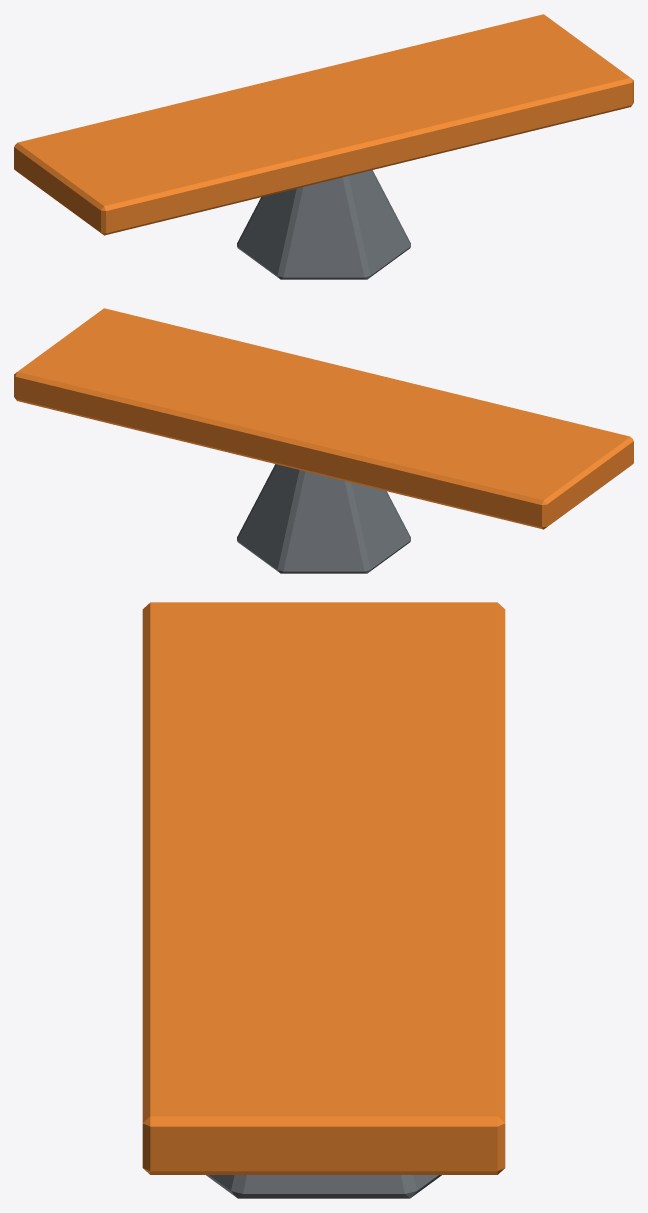
File: seesaw.glb
The picture shows the model from 3 angles, top to bottom: view 1: azimuth 30°, elevation 25°; view 2: azimuth 150°, elevation 25°; view 3: azimuth 270°, elevation 25°; orthographic projection. The views are drawn at different scales.
Visible parts, largest first — view 1: seesaw; view 2: seesaw; view 3: seesaw.
Boxes of the visible parts, x1,y1,x2,y2 form: seesaw: [14, 14, 633, 279]; seesaw: [14, 308, 633, 573]; seesaw: [142, 602, 505, 1198].
Size of the model in its own units: 0.95 by 0.235 by 0.28.
